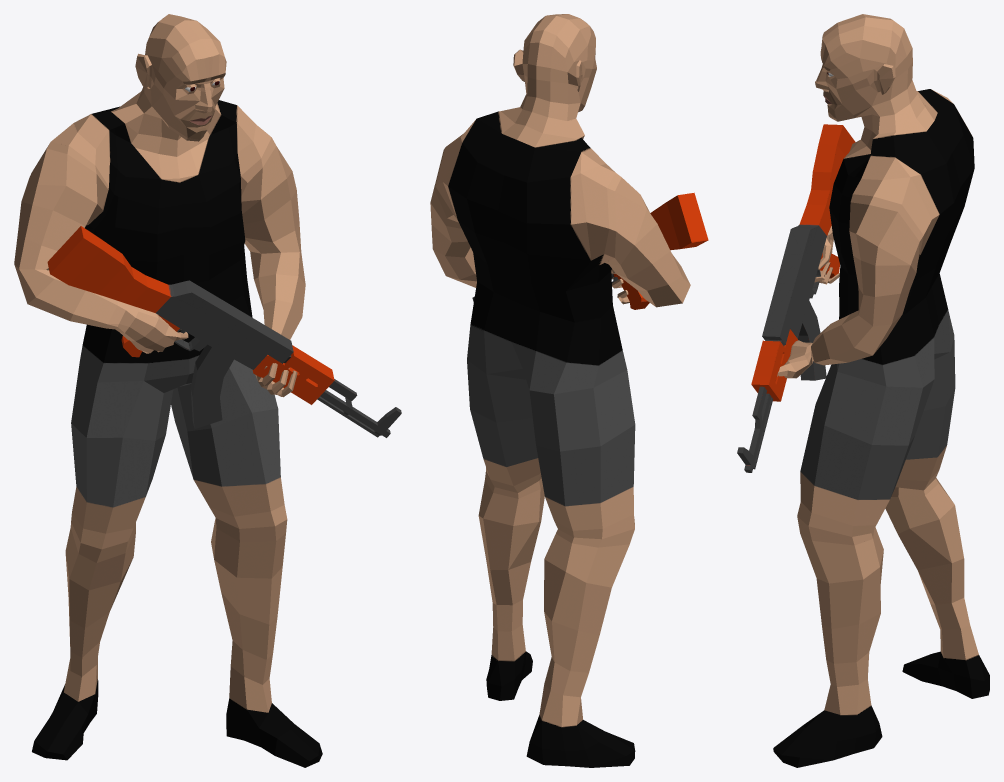
File: PlayerIdle(190).obj
The picture shows the model from 3 angles, left to right: view 1: azimuth 30°, elevation 25°; view 2: azimuth 150°, elevation 25°; view 3: azimuth 270°, elevation 25°; orthographic projection. The views are drawn at different scales.
Parts seen in each view (by area): view 1: Plane002, Object001; view 2: Plane002, Object001; view 3: Plane002, Object001.
Part boxes in pixels (<box>): Plane002: <box>14,14,322,767</box>; Object001: <box>47,226,401,437</box>; Plane002: <box>430,14,690,767</box>; Object001: <box>472,192,708,309</box>; Plane002: <box>773,14,989,767</box>; Object001: <box>737,124,855,472</box>.
Size of the model in its own units: 775 by 1801 by 587.
